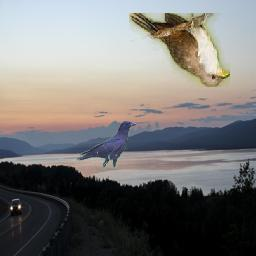Crow: (76, 121, 136, 172)
Cuckoo: (130, 13, 231, 87)
